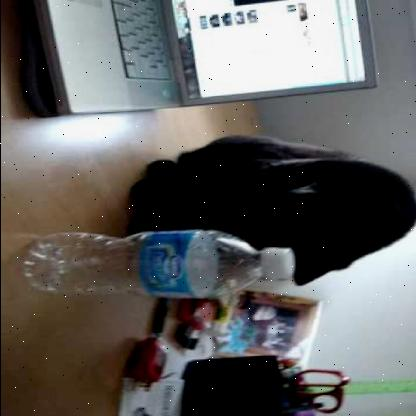Plastic Bottle: (20, 232, 294, 298)
